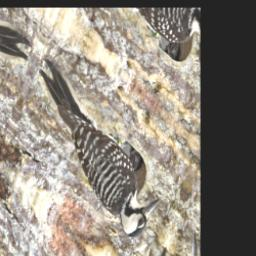Woodpecker: (16, 51, 170, 251)
